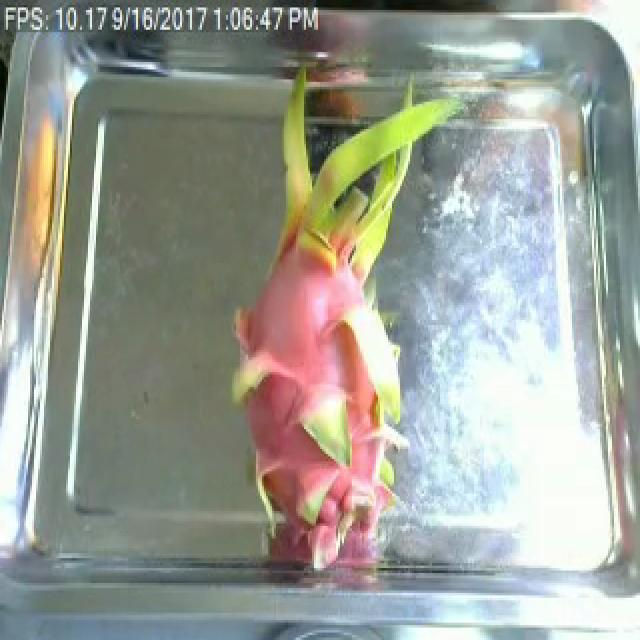fruit: (204, 162, 448, 586)
